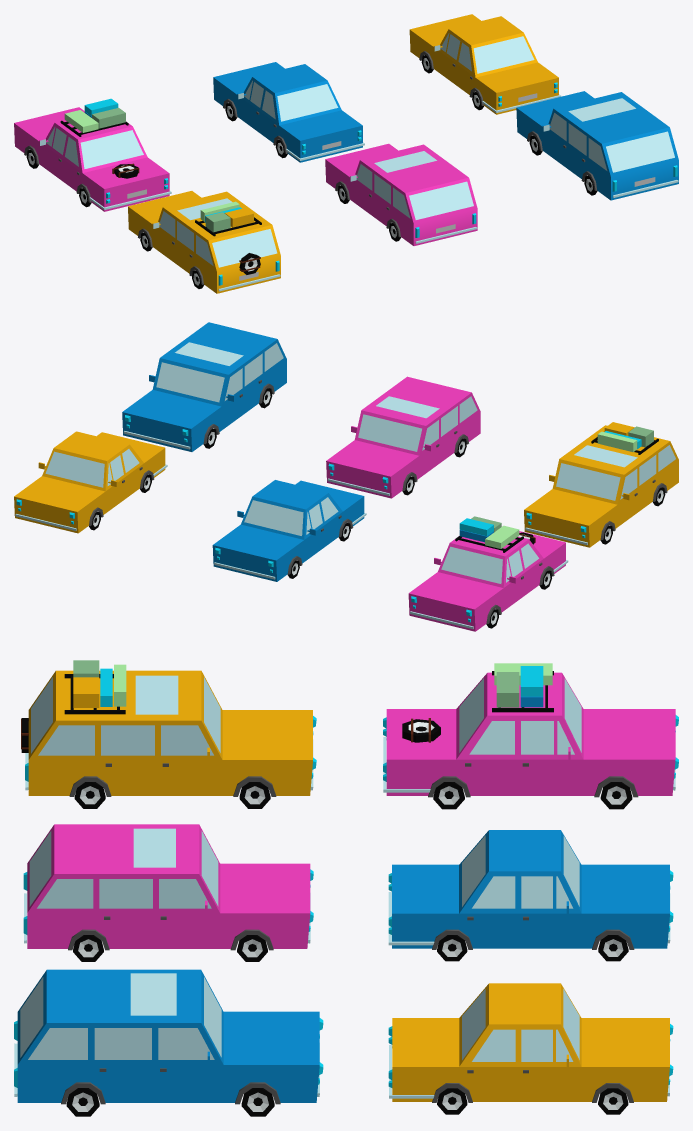
The model's file is Cars.fbx.
3 renders of one model, top to bottom at view 1: azimuth 30°, elevation 25°; view 2: azimuth 150°, elevation 25°; view 3: azimuth 270°, elevation 25°, orthographic. The views are drawn at different scales.
Visible parts, largest first — view 1: Car6, Car1, Car4, Car5, Car2, Car3; view 2: Car6, Car4, Car5, Car1, Car2, Car3; view 3: Car6, Car4, Car5, Car1, Car2, Car3.
Boxes of the visible parts, x1,y1,x2,y2 form: Car6: (516,91,678,200); Car1: (14,98,171,211); Car4: (128,191,280,293); Car5: (325,143,477,245); Car2: (213,62,364,162); Car3: (409,14,561,114); Car6: (122,322,286,451); Car4: (524,422,678,547); Car5: (326,376,480,498); Car1: (408,516,568,631); Car2: (212,480,366,581); Car3: (14,431,167,533); Car6: (14,969,323,1116); Car4: (21,660,316,808); Car5: (23,824,313,961); Car1: (383,663,678,809); Car2: (388,830,673,961); Car3: (388,983,673,1114).
Bounding box in the file's own units: 4.84 × 0.6971 × 3.67.
